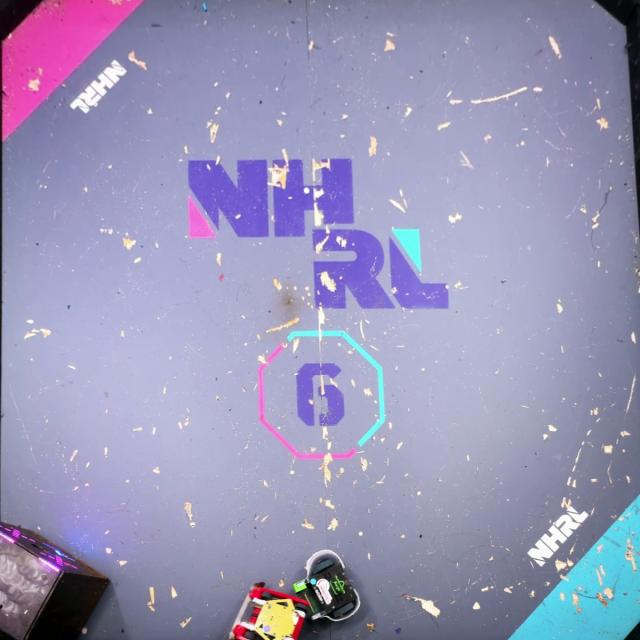housebot: (0, 521, 112, 640)
robot: (292, 550, 361, 624), (230, 580, 312, 640)
